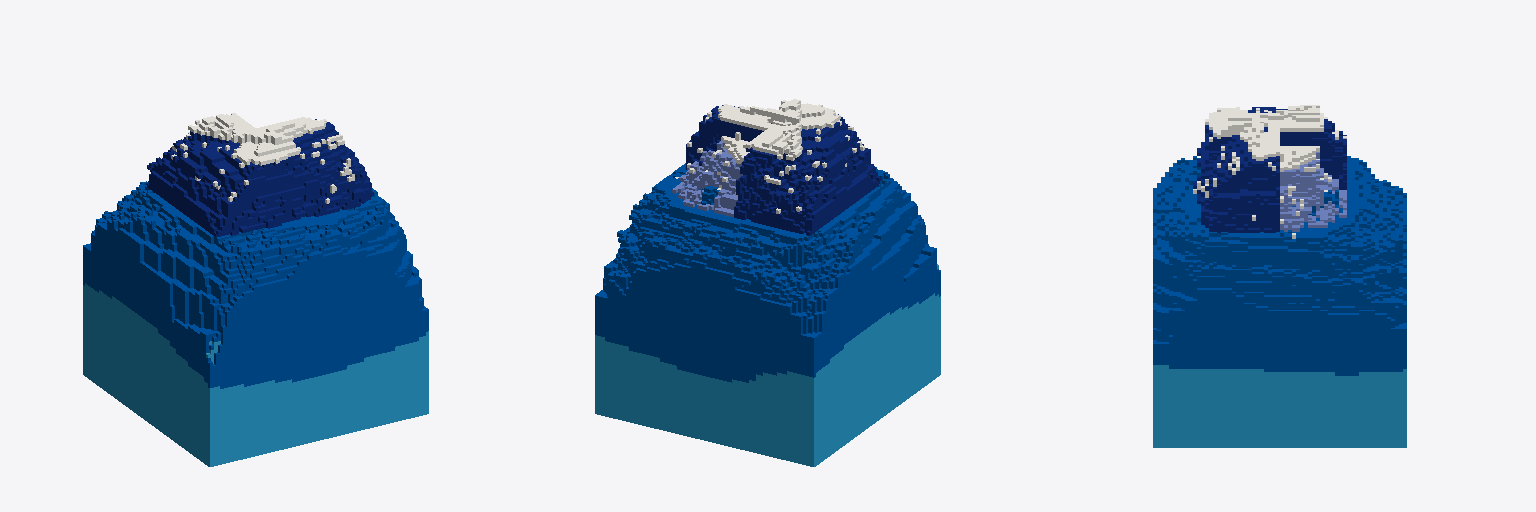
3 renders of one model, left to right at view 1: azimuth 30°, elevation 25°; view 2: azimuth 150°, elevation 25°; view 3: azimuth 270°, elevation 25°, orthographic.
Parts seen in each view (by area): view 1: Model; view 2: Model; view 3: Model.
Boxes of the visible parts, x1,y1,x2,y2 form: Model: [83, 113, 428, 466]; Model: [595, 99, 940, 466]; Model: [1153, 105, 1406, 447].
Bounding box in the file's own units: 64 × 77 × 64.
1 materials, 1 textured.